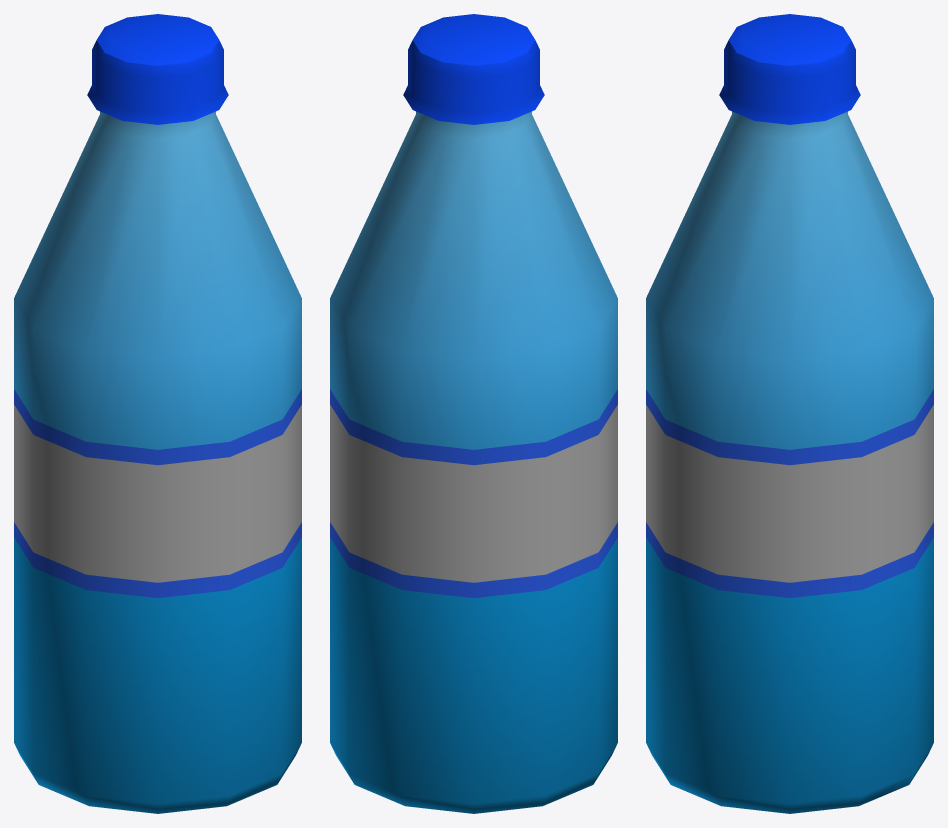
3 views of the same model, side by side, from view 1: azimuth 30°, elevation 25°; view 2: azimuth 150°, elevation 25°; view 3: azimuth 270°, elevation 25° (orthographic).
Parts seen in each view (by area): view 1: su; view 2: su; view 3: su.
Boxes of the visible parts, x1,y1,x2,y2 form: su: (14,14,301,813); su: (330,14,617,813); su: (646,14,933,813).
Bounding box in the file's own units: 26.66 × 74.14 × 26.66.
